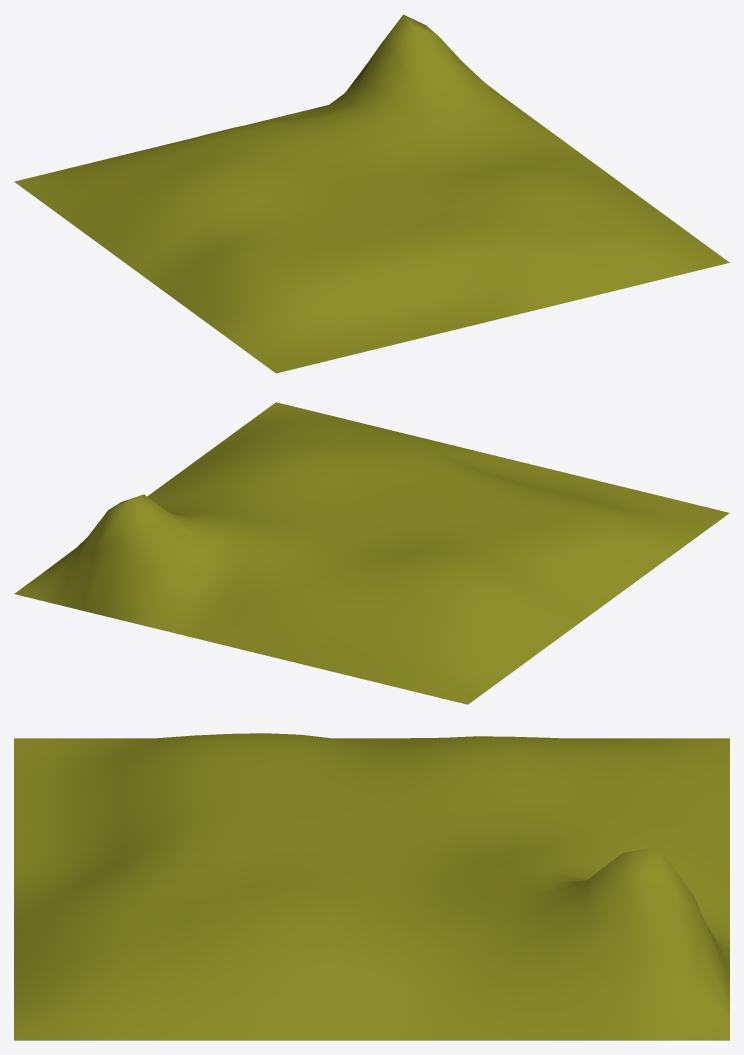
Rendered from terrain00.glb.
The picture shows the model from 3 angles, top to bottom: view 1: azimuth 30°, elevation 25°; view 2: azimuth 150°, elevation 25°; view 3: azimuth 270°, elevation 25°; orthographic projection. The views are drawn at different scales.
Visible parts, largest first — view 1: Terrain.001; view 2: Terrain.001; view 3: Terrain.001.
Boxes of the visible parts, box(x1,y1,x2,y2) form: Terrain.001: box(14, 14, 729, 373); Terrain.001: box(14, 402, 729, 704); Terrain.001: box(14, 733, 729, 1040).
Size of the model in its own units: 150 by 30.88 by 150.
